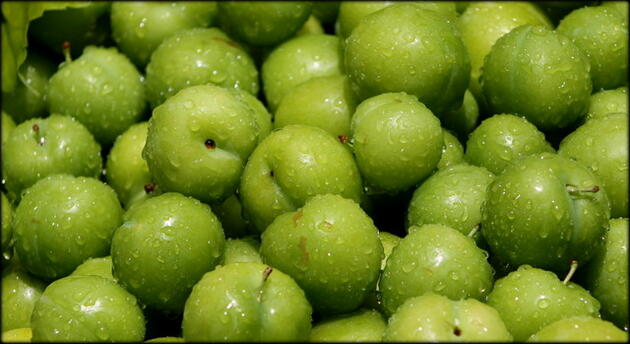Plum: (482, 151, 610, 276), (253, 197, 373, 303), (4, 176, 119, 282), (144, 88, 249, 203), (344, 90, 435, 188)
